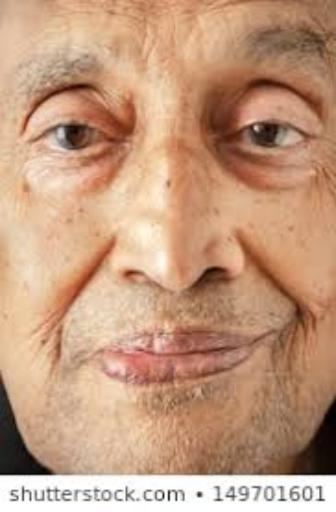left_eye: (220, 116, 309, 156)
left_lip_corner: (235, 325, 275, 369)
right_eye: (31, 117, 119, 158)
right_lip_corner: (92, 337, 120, 369)
